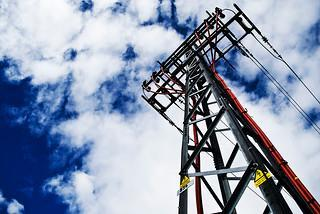power_tower: (141, 4, 320, 214)
